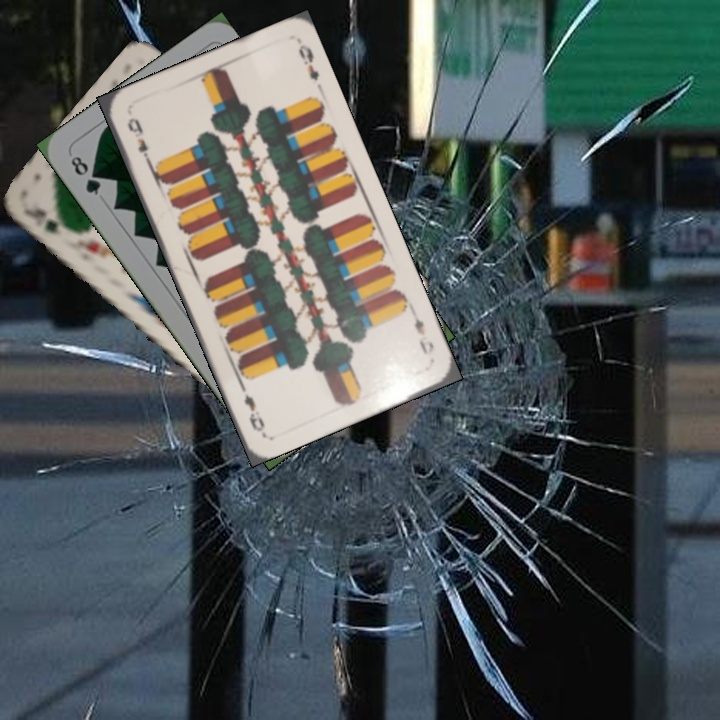E9: (123, 113, 154, 167), (407, 306, 437, 359)
G8: (66, 151, 104, 198)
GK: (19, 203, 62, 238)
